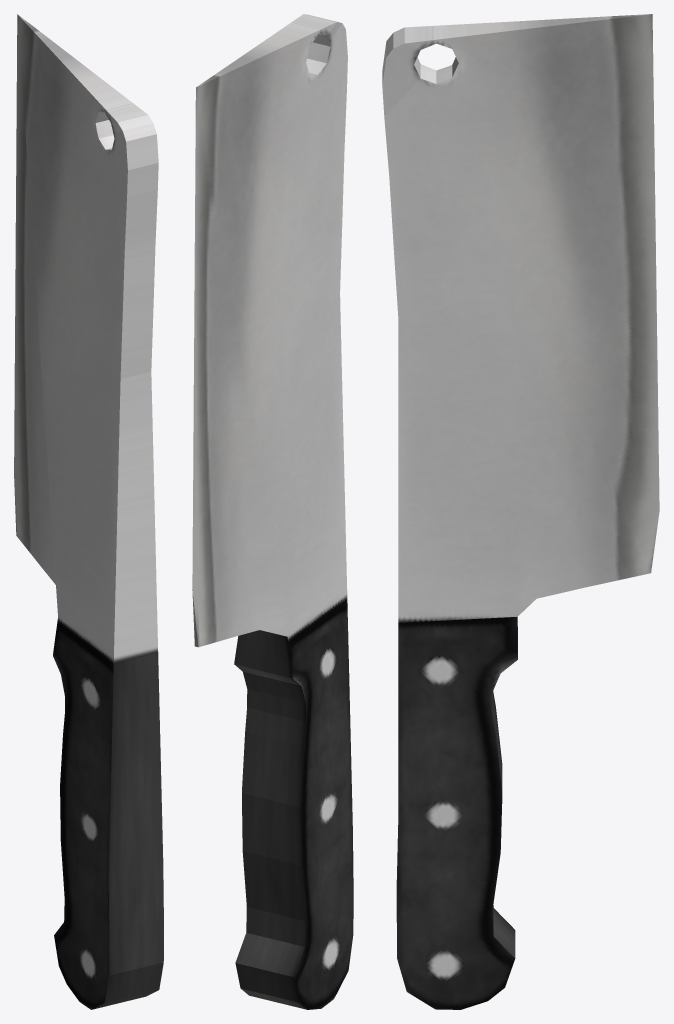
The model's file is Cleaver.fbx.
The picture shows the model from 3 angles, left to right: view 1: azimuth 30°, elevation 25°; view 2: azimuth 150°, elevation 25°; view 3: azimuth 270°, elevation 25°; orthographic projection. The views are drawn at different scales.
Parts seen in each view (by area): view 1: Cleaver; view 2: Cleaver; view 3: Cleaver.
Part boxes in pixels (x1,y1,x2,y2): Cleaver: (14, 14, 163, 1009); Cleaver: (192, 14, 353, 1009); Cleaver: (382, 14, 659, 1009).
Bounding box in the file's own units: 0.2989 × 4.78 × 1.22.
1 material, 1 textured.
